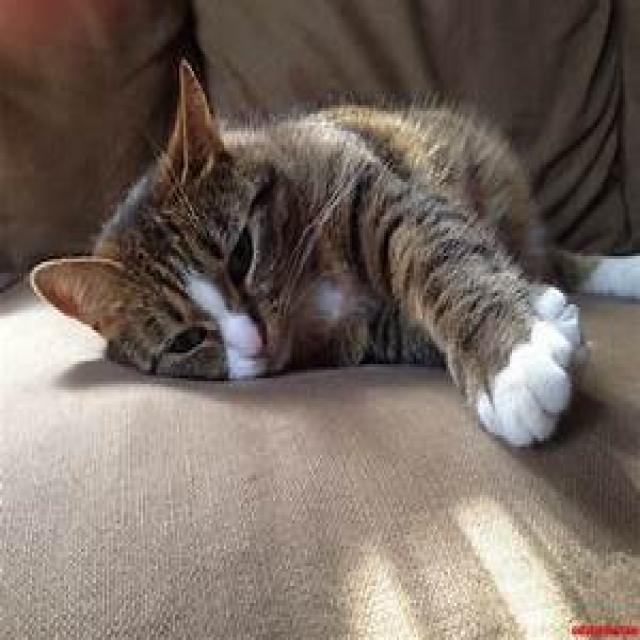cat: (28, 57, 638, 449)
